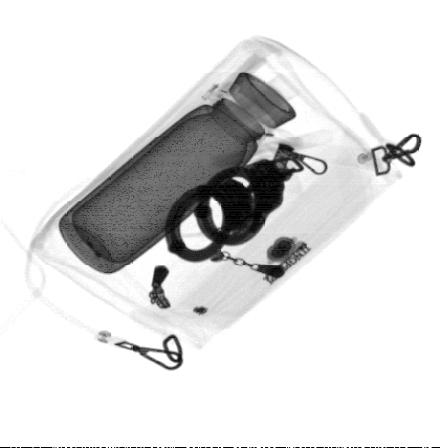Bullet: (264, 141, 294, 195)
HandCuffs: (165, 158, 301, 261)
